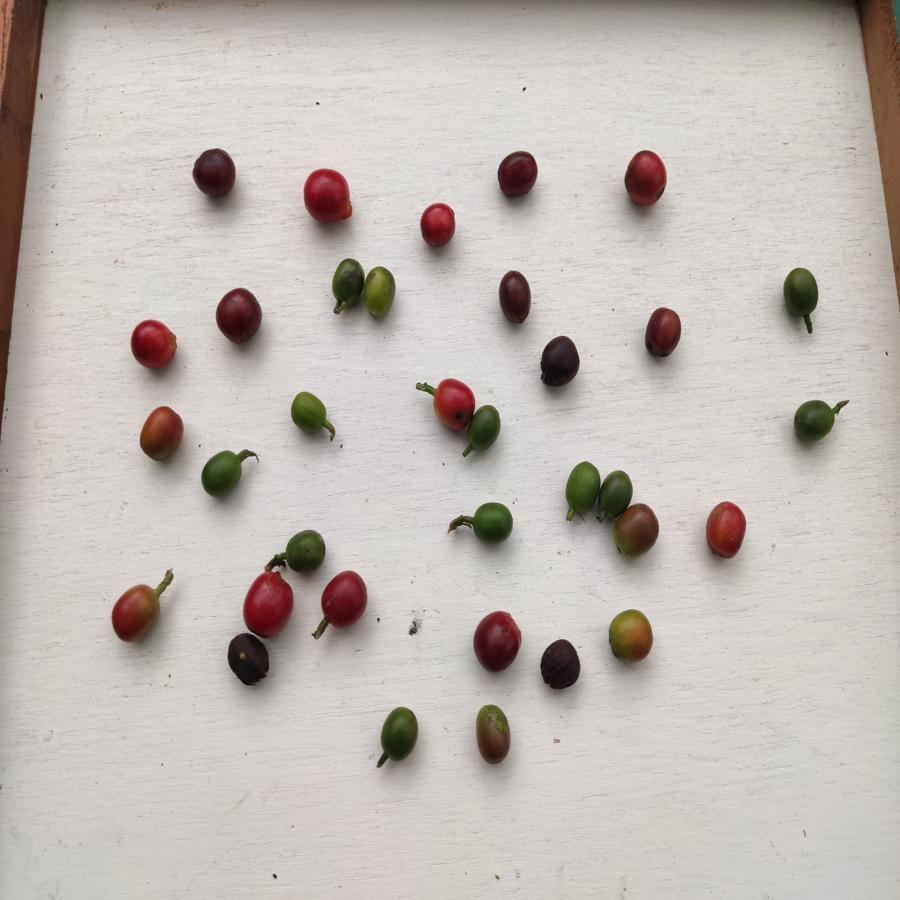Inmaduro: (200, 447, 246, 500), (380, 703, 418, 766), (791, 398, 840, 445), (465, 498, 516, 542), (780, 264, 820, 318), (562, 460, 598, 519), (280, 528, 327, 572), (361, 265, 398, 319), (328, 257, 365, 309), (288, 391, 328, 433), (597, 468, 630, 518), (468, 404, 502, 451)
Maduro: (106, 583, 166, 642), (244, 568, 290, 636), (319, 569, 369, 631), (302, 167, 354, 225), (625, 148, 669, 212), (127, 318, 178, 372), (703, 498, 744, 561), (434, 375, 471, 435), (420, 201, 456, 253)
Pinton: (470, 700, 517, 765), (604, 608, 655, 665), (139, 405, 182, 465), (614, 506, 665, 556)
Sobremaduro: (471, 609, 524, 676), (214, 285, 264, 345), (538, 636, 585, 694), (191, 147, 236, 200), (226, 632, 271, 685), (494, 149, 541, 198), (540, 333, 580, 389), (497, 267, 533, 326), (645, 305, 679, 360)
